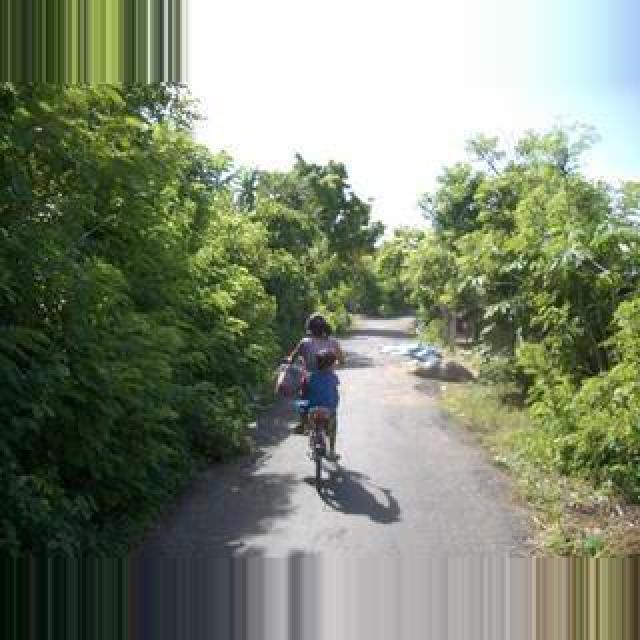MC-Bike: (290, 314, 344, 458)
Person: (305, 405, 337, 473)
